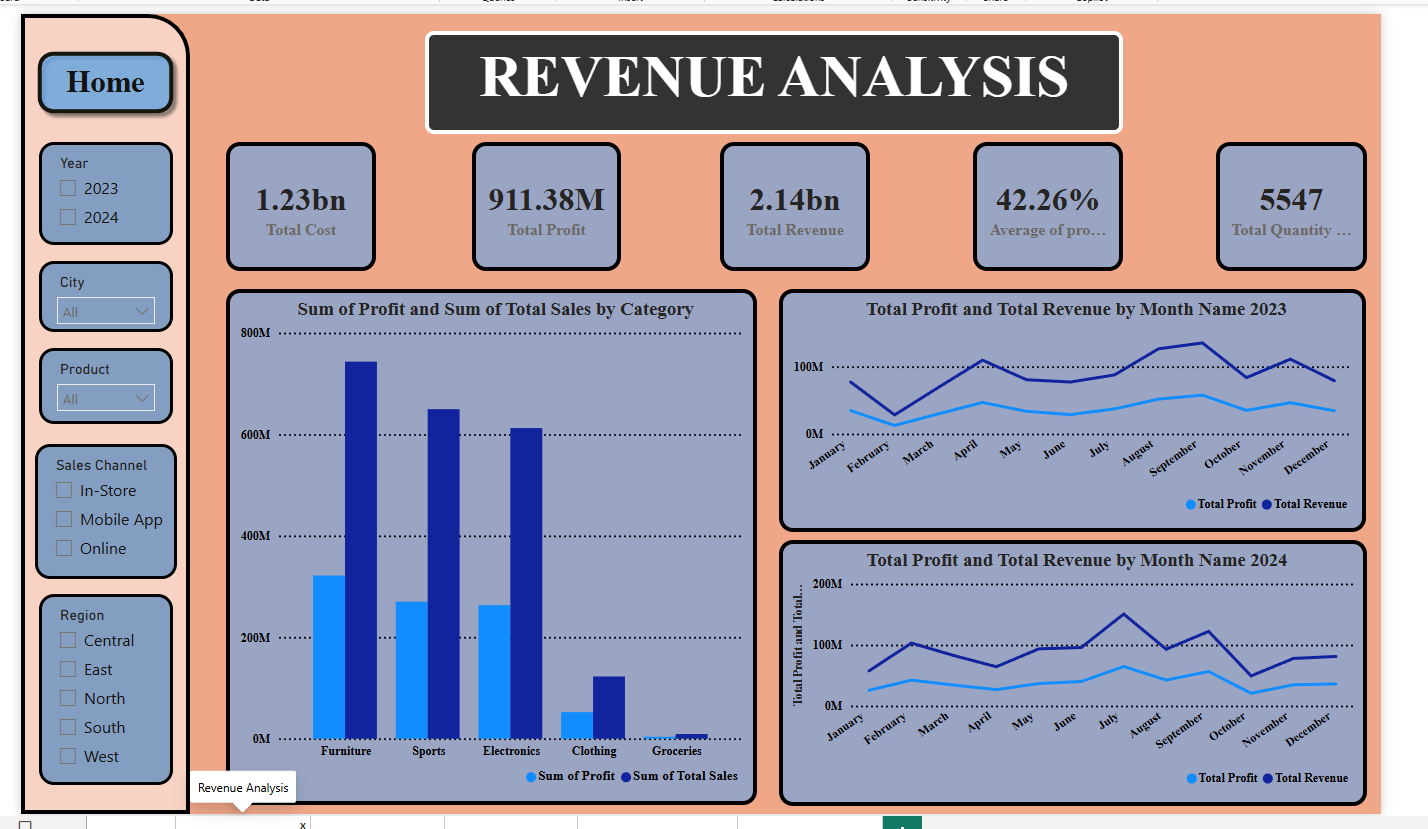

What the dashboard file says about the page in this screenshot:
{"tool":"powerbi","page":{"name":"Revenue Analysis","canvas":[1360,800],"ordinal":1},"visuals":[{"type":"card","fields":{"Values":["📦 Raw Data.Total Cost"]},"box":[205,128,150,129],"z":0},{"type":"card","fields":{"Values":["📦 Raw Data.Total Profit"]},"box":[451,128,149,129],"z":1000},{"type":"card","fields":{"Values":["📦 Raw Data.Total Quantity Sold"]},"box":[1195,128,151,129],"z":2000},{"type":"card","fields":{"Values":["📦 Raw Data.Total Revenue"]},"box":[699,128,150,129],"z":3000},{"type":"clusteredColumnChart","title":"Sum of Profit and Sum of Total Sales by Category","fields":{"Category":["📦 Raw Data.Category"],"Y":["Sum(📦 Raw Data.Profit_NGN)","Sum(📦 Raw Data.Total_Sales_NGN)"]},"box":[205,275,531,516],"z":4000},{"type":"lineChart","title":"Total Profit and Total Revenue by Month Name 2023","fields":{"Y":["📦 Raw Data.Total Profit","📦 Raw Data.Total Revenue"],"Category":["DIM_Date.Month_Name"]},"box":[758,275,587,243],"z":5000},{"type":"lineChart","title":"Total Profit and Total Revenue by Month Name 2024","fields":{"Y":["📦 Raw Data.Total Profit","📦 Raw Data.Total Revenue"],"Category":["DIM_Date.Month_Name"]},"box":[758,526,588,266],"z":6000},{"type":"card","fields":{"Values":["Avg(📦 Raw Data.Proit Margin)"]},"box":[952,128,150,129],"z":7000},{"type":"shape","box":[0,0,169,800],"z":8000},{"type":"pageNavigator","box":[9,30,151,77],"z":9000},{"type":"slicer","fields":{"Values":["📦 Raw Data.City"]},"box":[18,247,134,71],"z":10000},{"type":"slicer","fields":{"Values":["📦 Raw Data.Product"]},"box":[18,334,134,76],"z":11000},{"type":"slicer","fields":{"Values":["📦 Raw Data.Sales Channel"]},"box":[14,430,142,135],"z":12000},{"type":"slicer","fields":{"Values":["📦 Raw Data.Region"]},"box":[18,580,134,191],"z":13000},{"type":"slicer","fields":{"Values":["DIM_Date.Year"]},"box":[18,128,134,103],"z":14000},{"type":"textbox","box":[404,17,698,103],"z":15000}]}

Visuals, with their boxes on the page's 1360x800 design canvas (x1, y1, x2, y2). These are canvas units, not pixel positions in the 1428x829 screenshot, which may show the page scaled, cropped or inside an application window:
card - 📦 Raw Data.Total Cost: [x1=205, y1=128, x2=355, y2=257]
card - 📦 Raw Data.Total Profit: [x1=451, y1=128, x2=600, y2=257]
card - 📦 Raw Data.Total Quantity Sold: [x1=1195, y1=128, x2=1346, y2=257]
card - 📦 Raw Data.Total Revenue: [x1=699, y1=128, x2=849, y2=257]
"Sum of Profit and Sum of Total Sales by Category" clusteredColumnChart: [x1=205, y1=275, x2=736, y2=791]
"Total Profit and Total Revenue by Month Name 2023" lineChart: [x1=758, y1=275, x2=1345, y2=518]
"Total Profit and Total Revenue by Month Name 2024" lineChart: [x1=758, y1=526, x2=1346, y2=792]
card - Avg(📦 Raw Data.Proit Margin): [x1=952, y1=128, x2=1102, y2=257]
shape: [x1=0, y1=0, x2=169, y2=800]
pageNavigator: [x1=9, y1=30, x2=160, y2=107]
slicer - 📦 Raw Data.City: [x1=18, y1=247, x2=152, y2=318]
slicer - 📦 Raw Data.Product: [x1=18, y1=334, x2=152, y2=410]
slicer - 📦 Raw Data.Sales Channel: [x1=14, y1=430, x2=156, y2=565]
slicer - 📦 Raw Data.Region: [x1=18, y1=580, x2=152, y2=771]
slicer - DIM_Date.Year: [x1=18, y1=128, x2=152, y2=231]
textbox: [x1=404, y1=17, x2=1102, y2=120]
